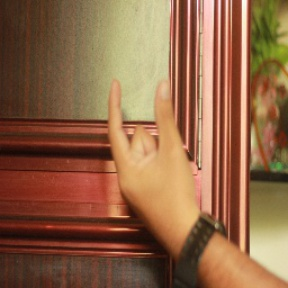U: (102, 74, 194, 220)
